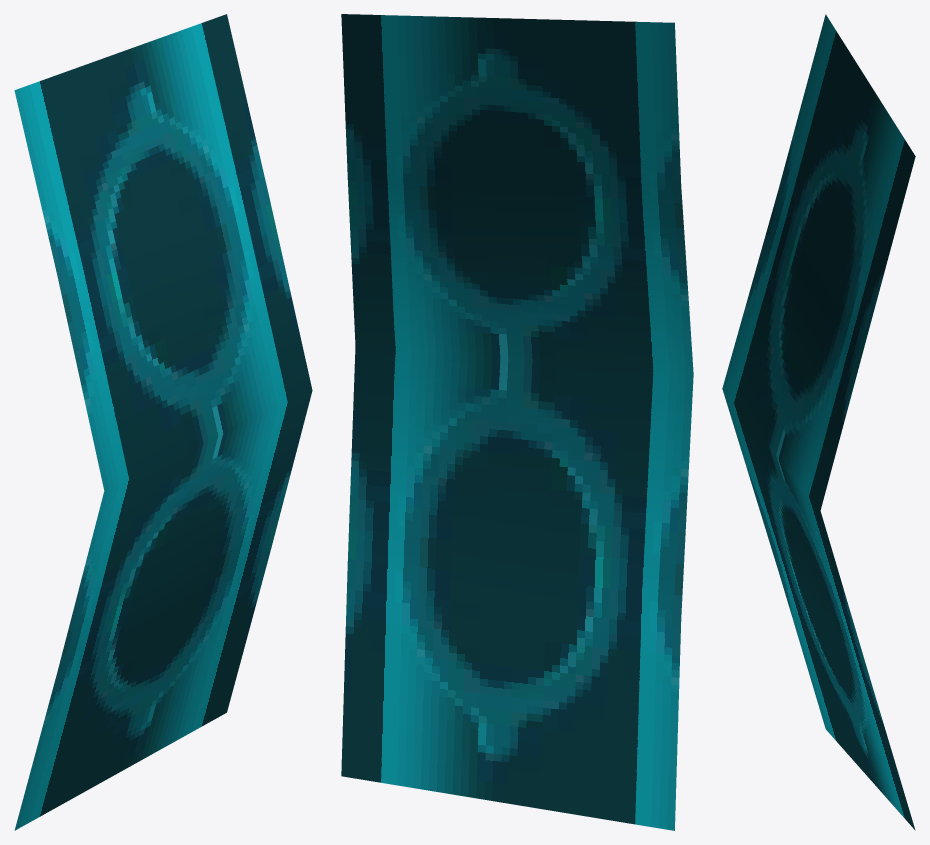
The model's file is acc_glass_mnt.dae.
The picture shows the model from 3 angles, left to right: view 1: azimuth 30°, elevation 25°; view 2: azimuth 150°, elevation 25°; view 3: azimuth 270°, elevation 25°; orthographic projection. The views are drawn at different scales.
Visible parts, largest first — view 1: acc_glass_mnt; view 2: acc_glass_mnt; view 3: acc_glass_mnt.
Part boxes in pixels (x1,y1,x2,y2): acc_glass_mnt: (14,14,312,830); acc_glass_mnt: (341,14,693,830); acc_glass_mnt: (722,14,915,830).
Size of the model in its own units: 9.57 by 22.93 by 5.62.
Materials: 1 (1 with a texture image).
